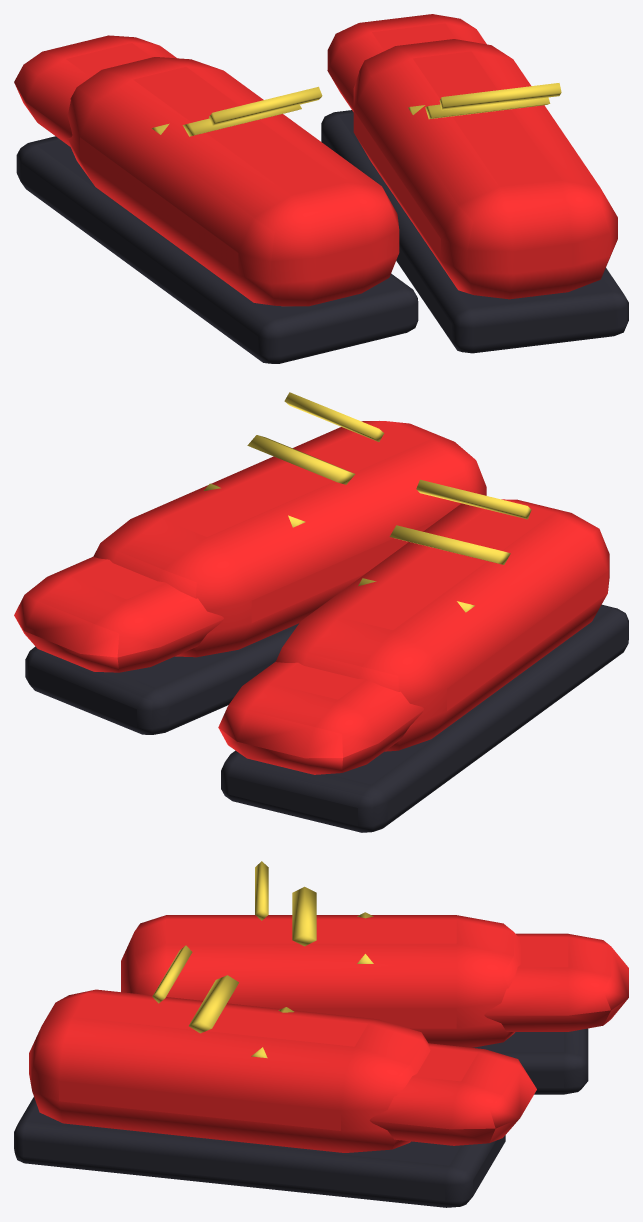
Rendered from x_moon_clown.glb.
3 views of the same model, one above another, from view 1: azimuth 30°, elevation 25°; view 2: azimuth 150°, elevation 25°; view 3: azimuth 270°, elevation 25° (orthographic). The views are drawn at different scales.
Parts seen in each view (by area): view 1: boot_l, boot_r.002; view 2: boot_l, boot_r.002; view 3: boot_r.002, boot_l.
Boxes of the visible parts, x1,y1,x2,y2 form: boot_l: [14, 35, 418, 363]; boot_r.002: [321, 14, 628, 353]; boot_l: [218, 479, 628, 832]; boot_r.002: [14, 392, 486, 734]; boot_r.002: [14, 945, 536, 1207]; boot_l: [121, 861, 628, 1094].
Bounding box in the file's own units: 0.3879 × 0.176 × 0.5461.
